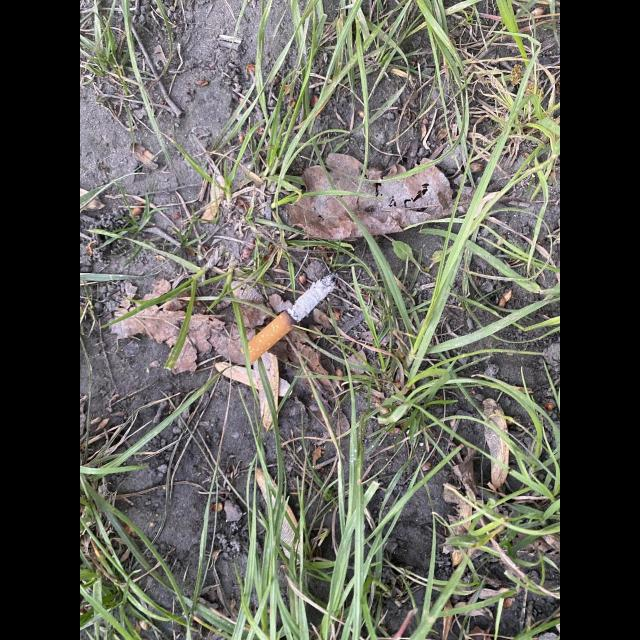cigarette: (240, 272, 338, 363)
